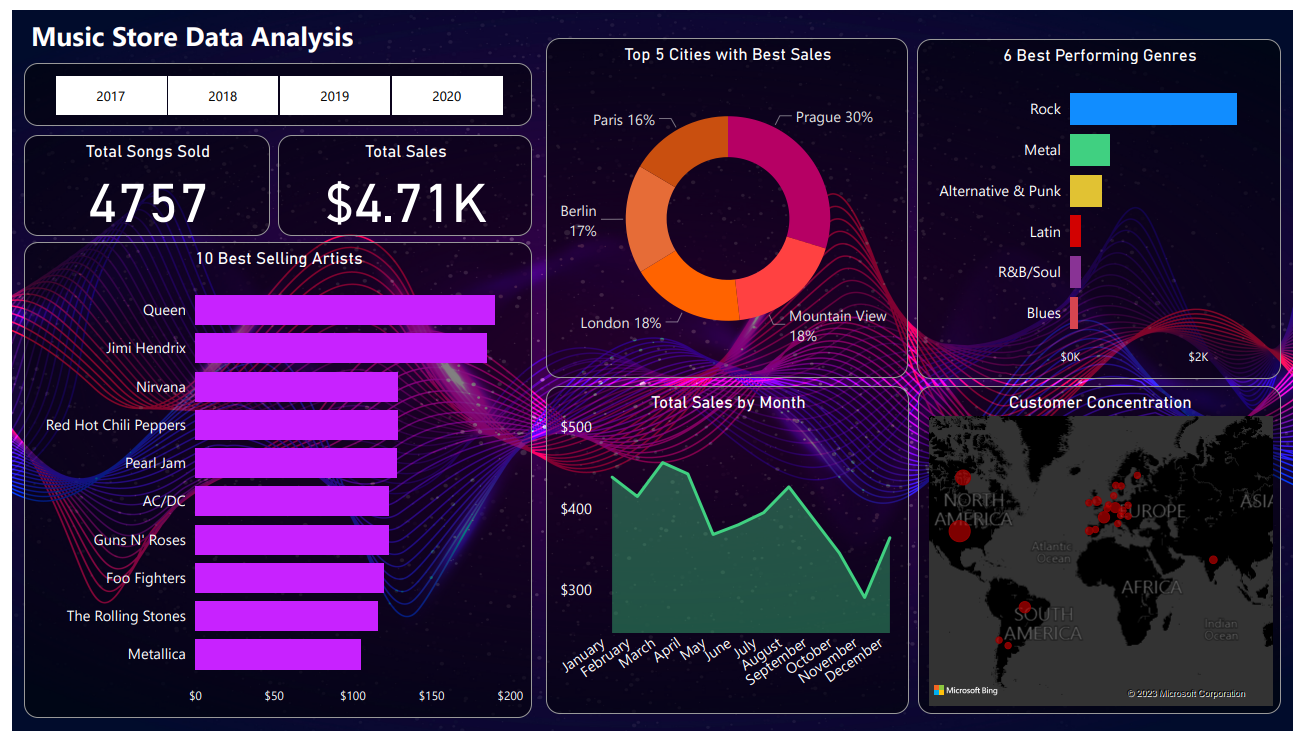

This screenshot's page, from the dashboard's own definition file:
{"tool":"powerbi","page":{"name":"Page 1","canvas":[1280,720],"ordinal":0},"visuals":[{"type":"donutChart","title":"Top 5 Cities with Best Sales","fields":{"Category":["invoice.billing_city"],"Y":["invoice_line.Total Sales"]},"box":[534,28,362,340],"z":0},{"type":"map","title":"Customer Concentration","fields":{"Size":["customer.customer_id"],"Category":["customer.country"]},"box":[905.6,375.6,363.3,328.9],"z":1000},{"type":"barChart","title":"6 Best Performing Genres","fields":{"Category":["genre.name"],"Y":["invoice_line.Total Sales"]},"box":[905,29,364,340],"z":2000},{"type":"barChart","title":"10 Best Selling Artists","fields":{"Category":["artist.name"],"Y":["invoice_line.Total Sales"]},"box":[12,232,508,476],"z":3000},{"type":"card","title":"Total Sales","fields":{"Values":["invoice_line.Total Sales"]},"box":[266,125,254,101],"z":4000},{"type":"card","title":"Total Songs Sold","fields":{"Values":["invoice_line.quantity"]},"box":[12.2,125,245.6,101.1],"z":5000},{"type":"areaChart","title":"Total Sales by Month","fields":{"Y":["invoice_line.Total Sales"],"Category":["invoice.invoice_date.Variation.Date Hierarchy.Month"]},"box":[534.4,375.6,362.2,328.9],"z":6000},{"type":"slicer","fields":{"Values":["invoice.invoice_date.Variation.Date Hierarchy.Year"]},"box":[12,53,508,63],"z":7000},{"type":"textbox","box":[14.4,2.2,486.7,53.3],"z":8000}]}

Visuals, with their boxes in screenshot pixels (x1, y1, x2, y2), scaled from the page's 1280x720 canvas onto the 1301x740 screenshot:
"Top 5 Cities with Best Sales" donutChart: box=[543, 29, 911, 378]
"Customer Concentration" map: box=[920, 386, 1290, 724]
"6 Best Performing Genres" barChart: box=[920, 30, 1290, 379]
"10 Best Selling Artists" barChart: box=[12, 238, 529, 728]
"Total Sales" card: box=[270, 128, 529, 232]
"Total Songs Sold" card: box=[12, 128, 262, 232]
"Total Sales by Month" areaChart: box=[543, 386, 911, 724]
slicer - invoice.invoice_date.Variation.Date Hierarchy.Year: box=[12, 54, 529, 119]
textbox: box=[15, 2, 509, 57]
